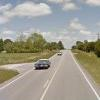Car: (30, 53, 52, 72)
